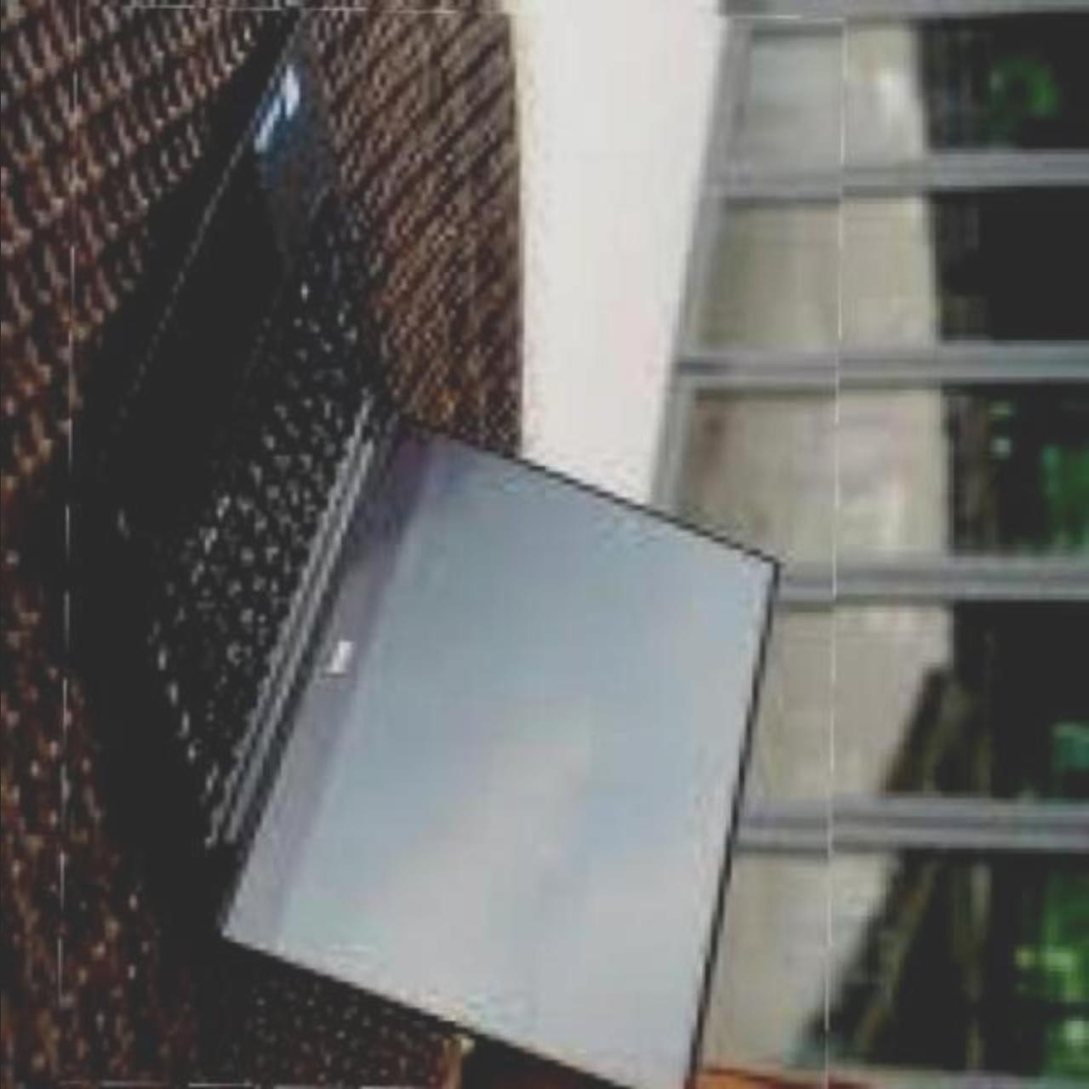laptop: (65, 8, 841, 1088)
